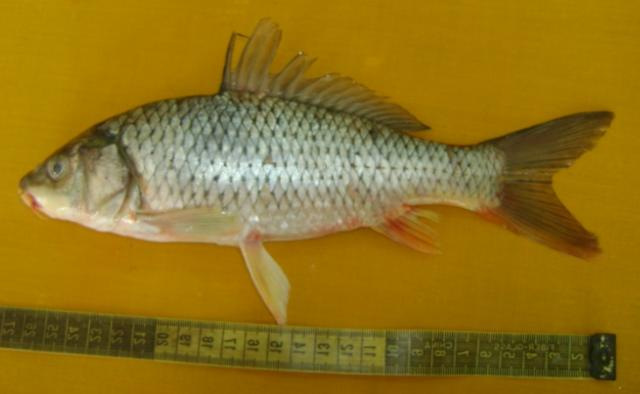Mulut: (7, 155, 68, 237)
Sirip Anal: (373, 204, 453, 260)
Sirip Dada: (130, 198, 252, 250)
Sirip Ekor: (482, 103, 618, 268)
Sirip Perut: (232, 228, 296, 332)
Sirip Punggung: (213, 10, 432, 144)
